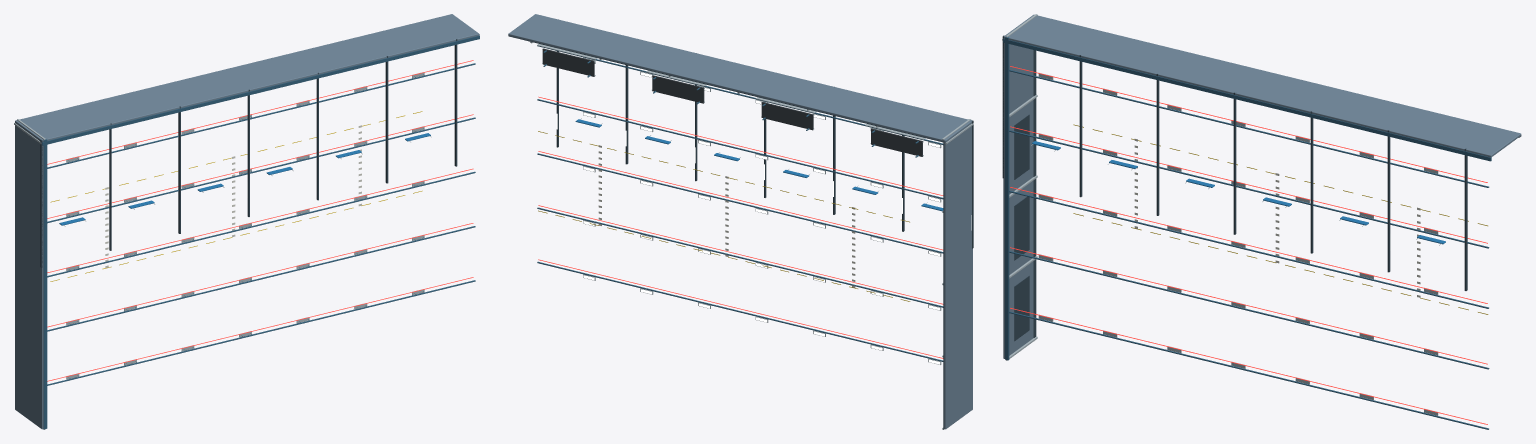
The model's file is hero_airport_shell.glb.
3 renders of one model, left to right at view 1: azimuth 30°, elevation 25°; view 2: azimuth 150°, elevation 25°; view 3: azimuth 330°, elevation 25°, orthographic. The views are drawn at different scales.
Parts seen in each view (by area): view 1: Rear wall structural base, Left wall structural base, Roof edge beam rear, Roof edge beam side, Suspended roof truss, Suspended roof truss.001, Suspended roof truss.002, Suspended roof truss.004, Suspended roof truss.003, Fire suppression main.001, Fire suppression main, Fire suppression main.002 (+4 smaller); view 2: Rear wall structural base, Left wall structural base, Suspended roof truss.002, Suspended roof truss, Suspended roof truss.001, Suspended roof truss.003, Baggage belt upper.002, Baggage belt upper.003, Baggage belt upper.001, Baggage belt upper, Suspended roof truss.004, Fire suppression main (+4 smaller); view 3: Rear wall structural base, Left wall structural base, Roof edge beam rear, Roof edge beam side, Suspended roof truss.002, Suspended roof truss.001, Suspended roof truss, Suspended roof truss.003, Suspended roof truss.004, Left wall dark plinth, Wall lateral inset.001, Wall lateral inset (+12 smaller).
Boxes of the visible parts, left/top/right/bottom form: Rear wall structural base: left=15, top=14, right=479, bottom=141; Left wall structural base: left=15, top=120, right=43, bottom=429; Roof edge beam rear: left=42, top=35, right=479, bottom=145; Roof edge beam side: left=43, top=139, right=47, bottom=429; Suspended roof truss: left=47, top=280, right=475, bottom=385; Suspended roof truss.001: left=47, top=226, right=475, bottom=331; Suspended roof truss.002: left=47, top=171, right=475, bottom=277; Suspended roof truss.004: left=47, top=63, right=475, bottom=168; Suspended roof truss.003: left=47, top=117, right=475, bottom=223; Fire suppression main.001: left=47, top=223, right=473, bottom=327; Fire suppression main: left=47, top=277, right=473, bottom=381; Fire suppression main.002: left=47, top=168, right=473, bottom=272; Rear wall structural base: left=508, top=14, right=971, bottom=141; Left wall structural base: left=944, top=120, right=972, bottom=429; Suspended roof truss.002: left=537, top=153, right=943, bottom=253; Suspended roof truss: left=537, top=261, right=943, bottom=361; Suspended roof truss.001: left=537, top=207, right=943, bottom=307; Suspended roof truss.003: left=537, top=99, right=943, bottom=199; Baggage belt upper.002: left=652, top=75, right=704, bottom=103; Baggage belt upper.003: left=542, top=48, right=594, bottom=76; Baggage belt upper.001: left=761, top=102, right=813, bottom=130; Baggage belt upper: left=871, top=128, right=922, bottom=156; Suspended roof truss.004: left=537, top=45, right=943, bottom=144; Fire suppression main: left=538, top=259, right=943, bottom=358; Rear wall structural base: left=1008, top=15, right=1521, bottom=157; Left wall structural base: left=1003, top=14, right=1034, bottom=358; Roof edge beam rear: left=1003, top=38, right=1491, bottom=161; Roof edge beam side: left=1005, top=37, right=1009, bottom=360; Suspended roof truss.002: left=1009, top=190, right=1488, bottom=308; Suspended roof truss.001: left=1009, top=251, right=1489, bottom=369; Suspended roof truss: left=1009, top=311, right=1488, bottom=429; Suspended roof truss.003: left=1009, top=130, right=1489, bottom=248; Suspended roof truss.004: left=1009, top=69, right=1489, bottom=187; Left wall dark plinth: left=1033, top=50, right=1036, bottom=337; Wall lateral inset.001: left=1014, top=195, right=1029, bottom=260; Wall lateral inset: left=1014, top=275, right=1029, bottom=341.
Bounding box in the file's own units: 76.14 × 48.28 × 8.29.
